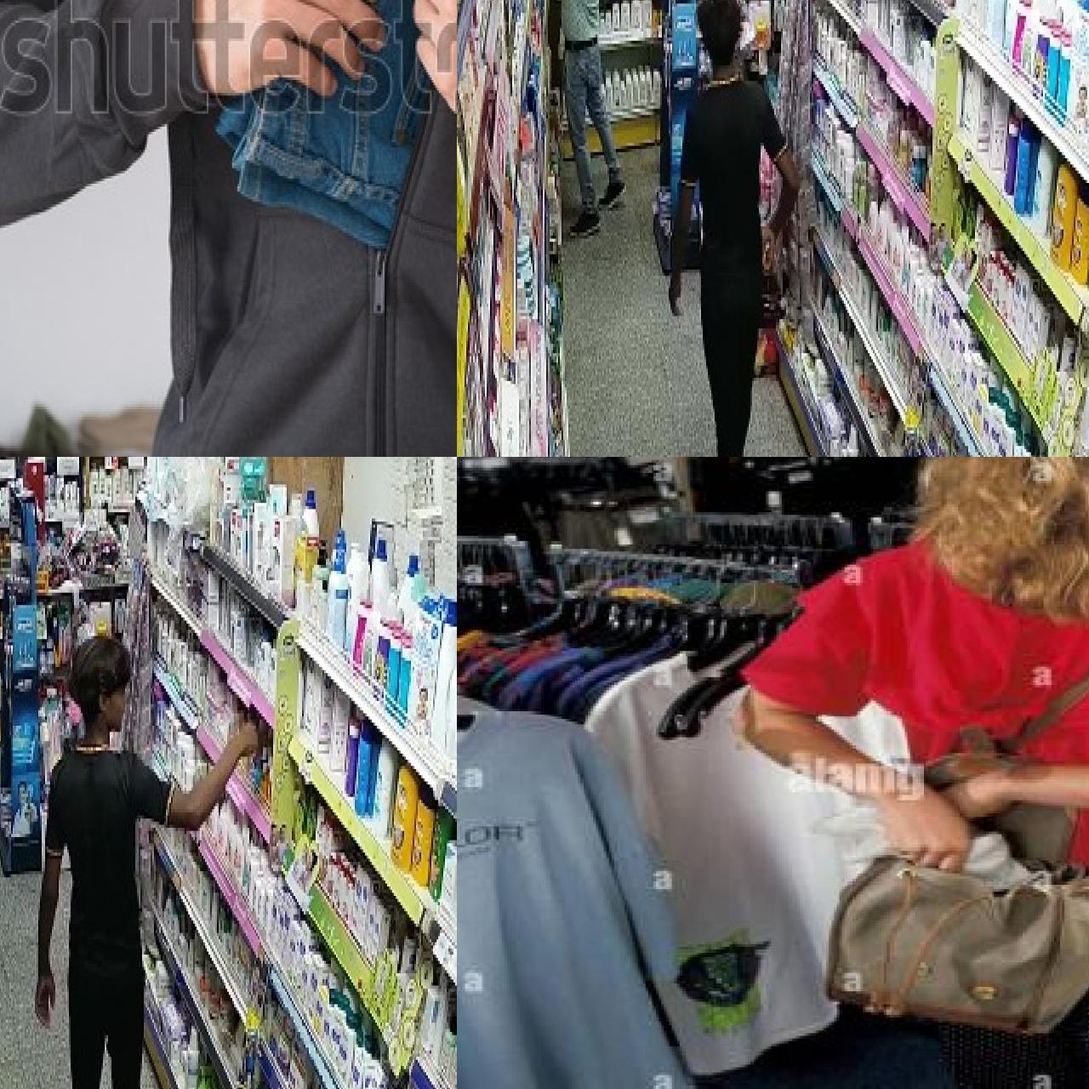shoplifting: (1, 1, 546, 333)
